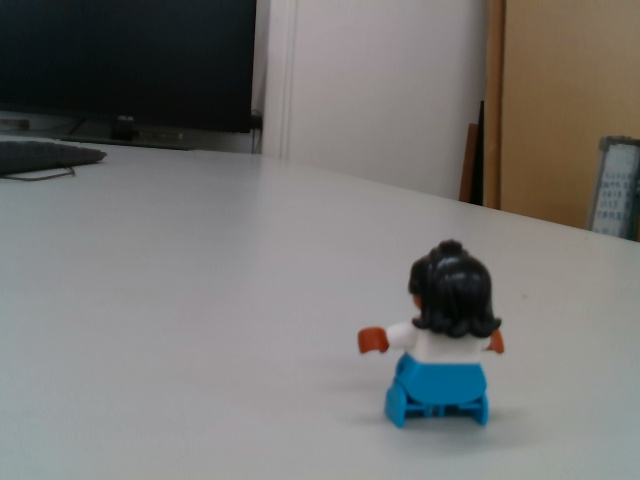people: (357, 239, 508, 429)
